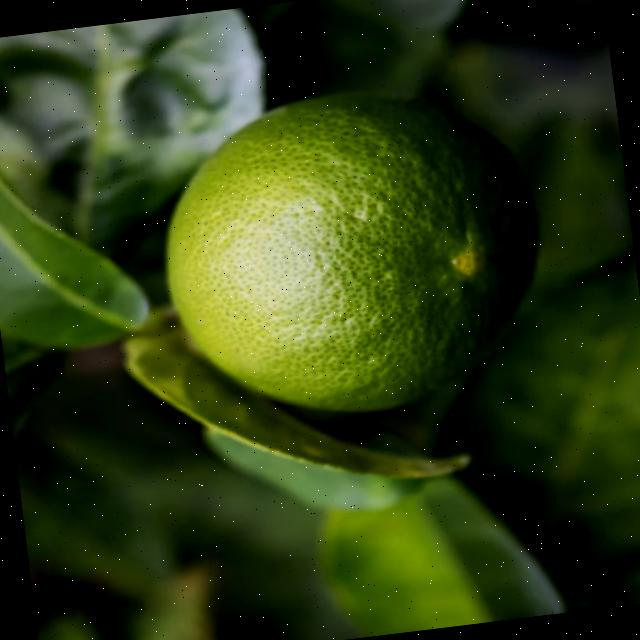Unripe: (140, 71, 559, 434)
